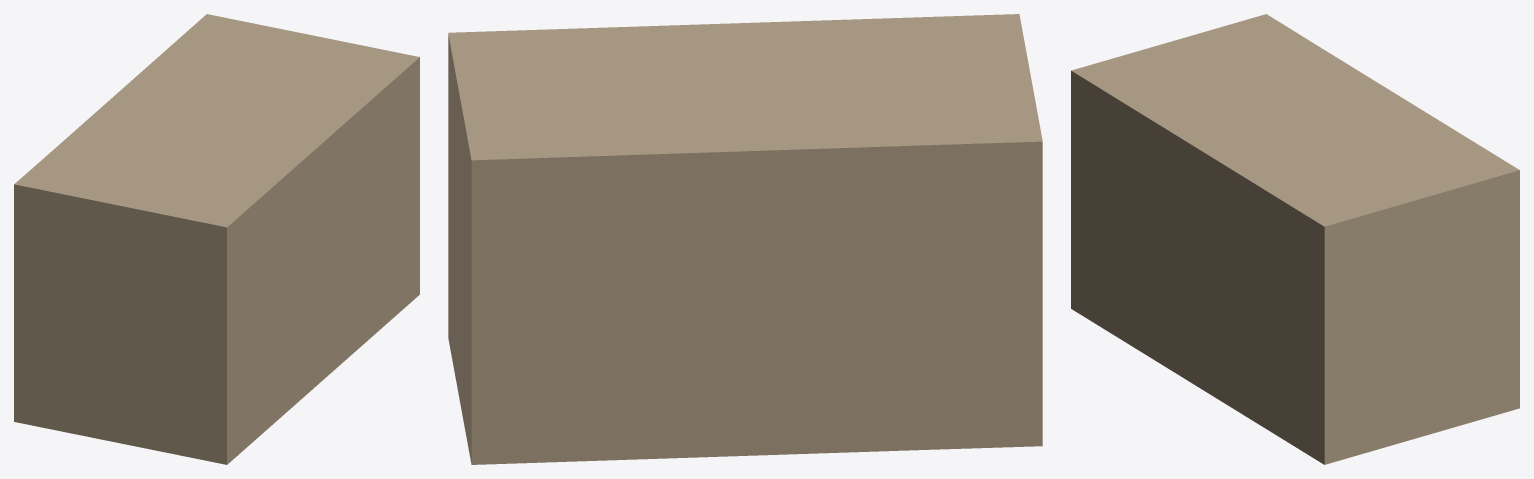
Rendered from bld_107716056.dae.
3 renders of one model, left to right at view 1: azimuth 30°, elevation 25°; view 2: azimuth 150°, elevation 25°; view 3: azimuth 270°, elevation 25°, orthographic. The views are drawn at different scales.
Parts seen in each view (by area): view 1: bld_107716056; view 2: bld_107716056; view 3: bld_107716056.
Part boxes in pixels (x1,y1,x2,y2): bld_107716056: [14, 14, 419, 464]; bld_107716056: [448, 14, 1042, 464]; bld_107716056: [1071, 14, 1519, 464].
Size of the model in its own units: 15.32 by 13.66 by 8.
